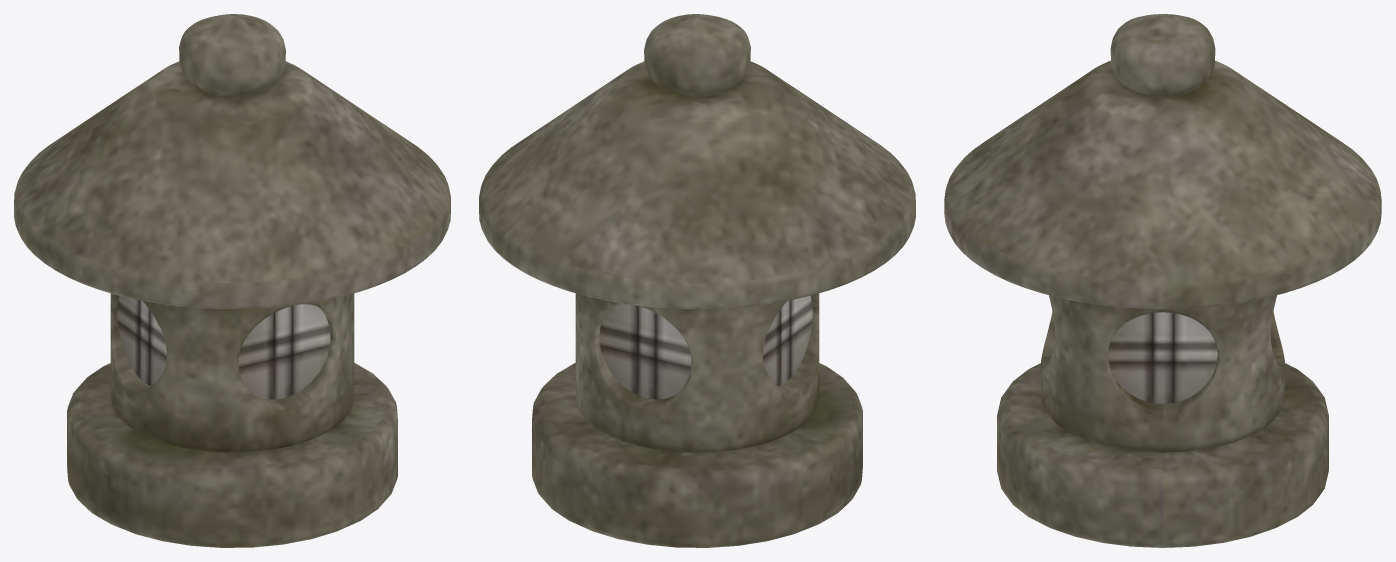
Rendered from den_tron.glb.
3 renders of one model, left to right at view 1: azimuth 30°, elevation 25°; view 2: azimuth 150°, elevation 25°; view 3: azimuth 270°, elevation 25°, orthographic.
Visible parts, largest first — view 1: 2_Japanese_lanterns_0; view 2: 2_Japanese_lanterns_0; view 3: 2_Japanese_lanterns_0.
Boxes of the visible parts, bbox=[...] form: 2_Japanese_lanterns_0: bbox=[14, 14, 450, 547]; 2_Japanese_lanterns_0: bbox=[479, 14, 915, 547]; 2_Japanese_lanterns_0: bbox=[944, 14, 1381, 547].
Bounding box in the file's own units: 1.28 × 1.5 × 1.28.
1 material, 1 textured.
